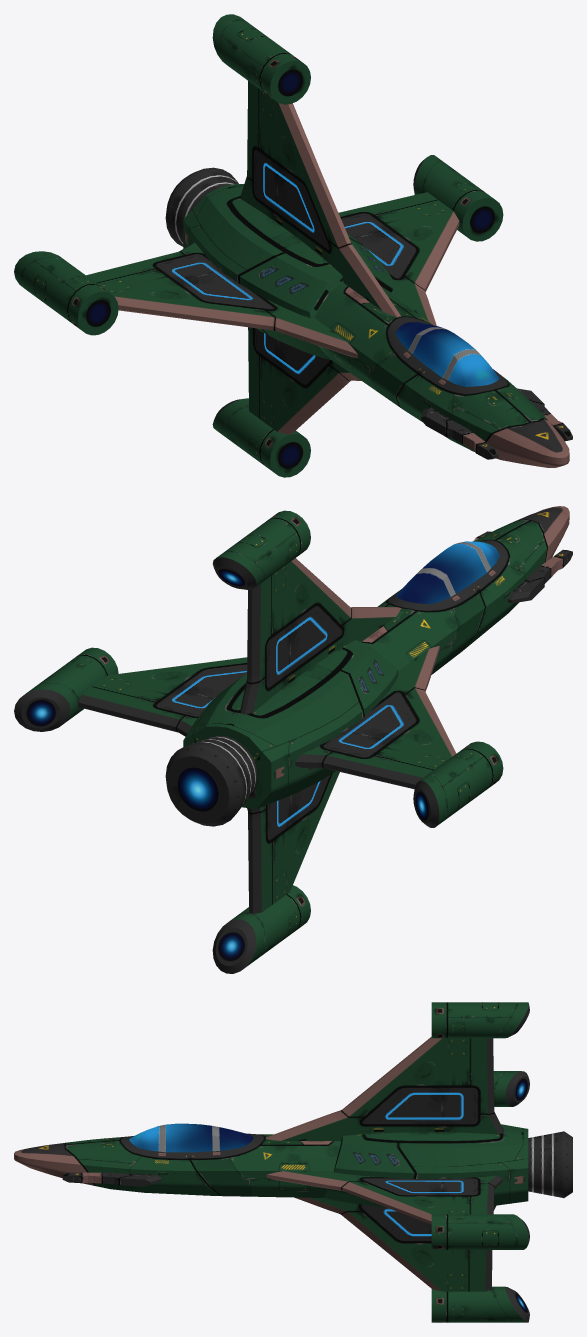
The model's file is StarSparrow.glb.
3 renders of one model, top to bottom at view 1: azimuth 30°, elevation 25°; view 2: azimuth 150°, elevation 25°; view 3: azimuth 270°, elevation 25°, orthographic. The views are drawn at different scales.
Visible parts, largest first — view 1: BP_StarSparrow15; view 2: BP_StarSparrow15; view 3: BP_StarSparrow15.
Part boxes in pixels (left/top/right/bottom): BP_StarSparrow15: left=14, top=14, right=572, bottom=477; BP_StarSparrow15: left=14, top=506, right=572, bottom=973; BP_StarSparrow15: left=14, top=1002, right=572, bottom=1322.
Bounding box in the file's own units: 7.1 × 6.63 × 10.59.
1 material, 1 textured.
